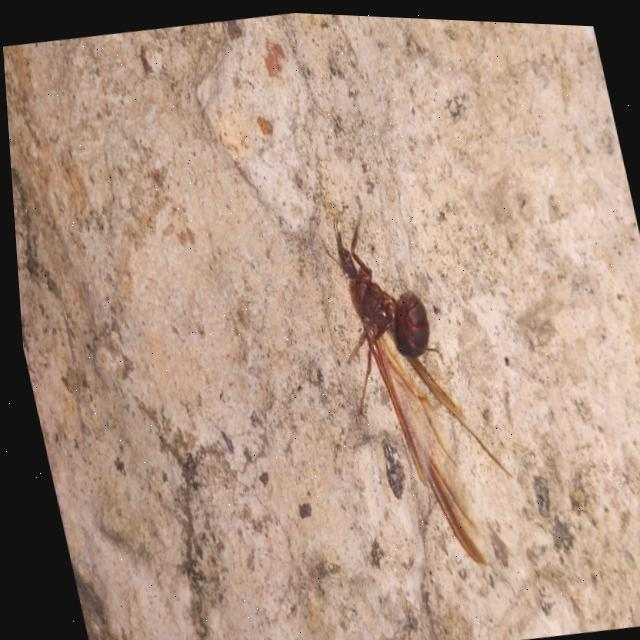Alive-Female-Alate: (311, 194, 526, 578)
